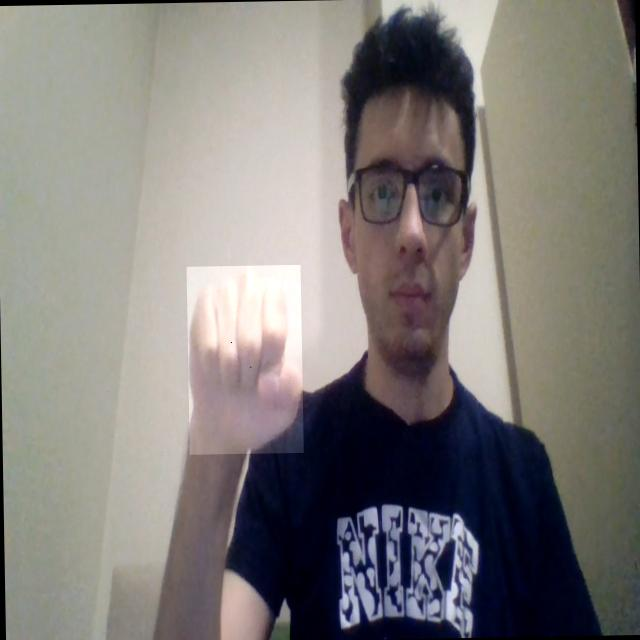yes: (186, 264, 303, 454)
